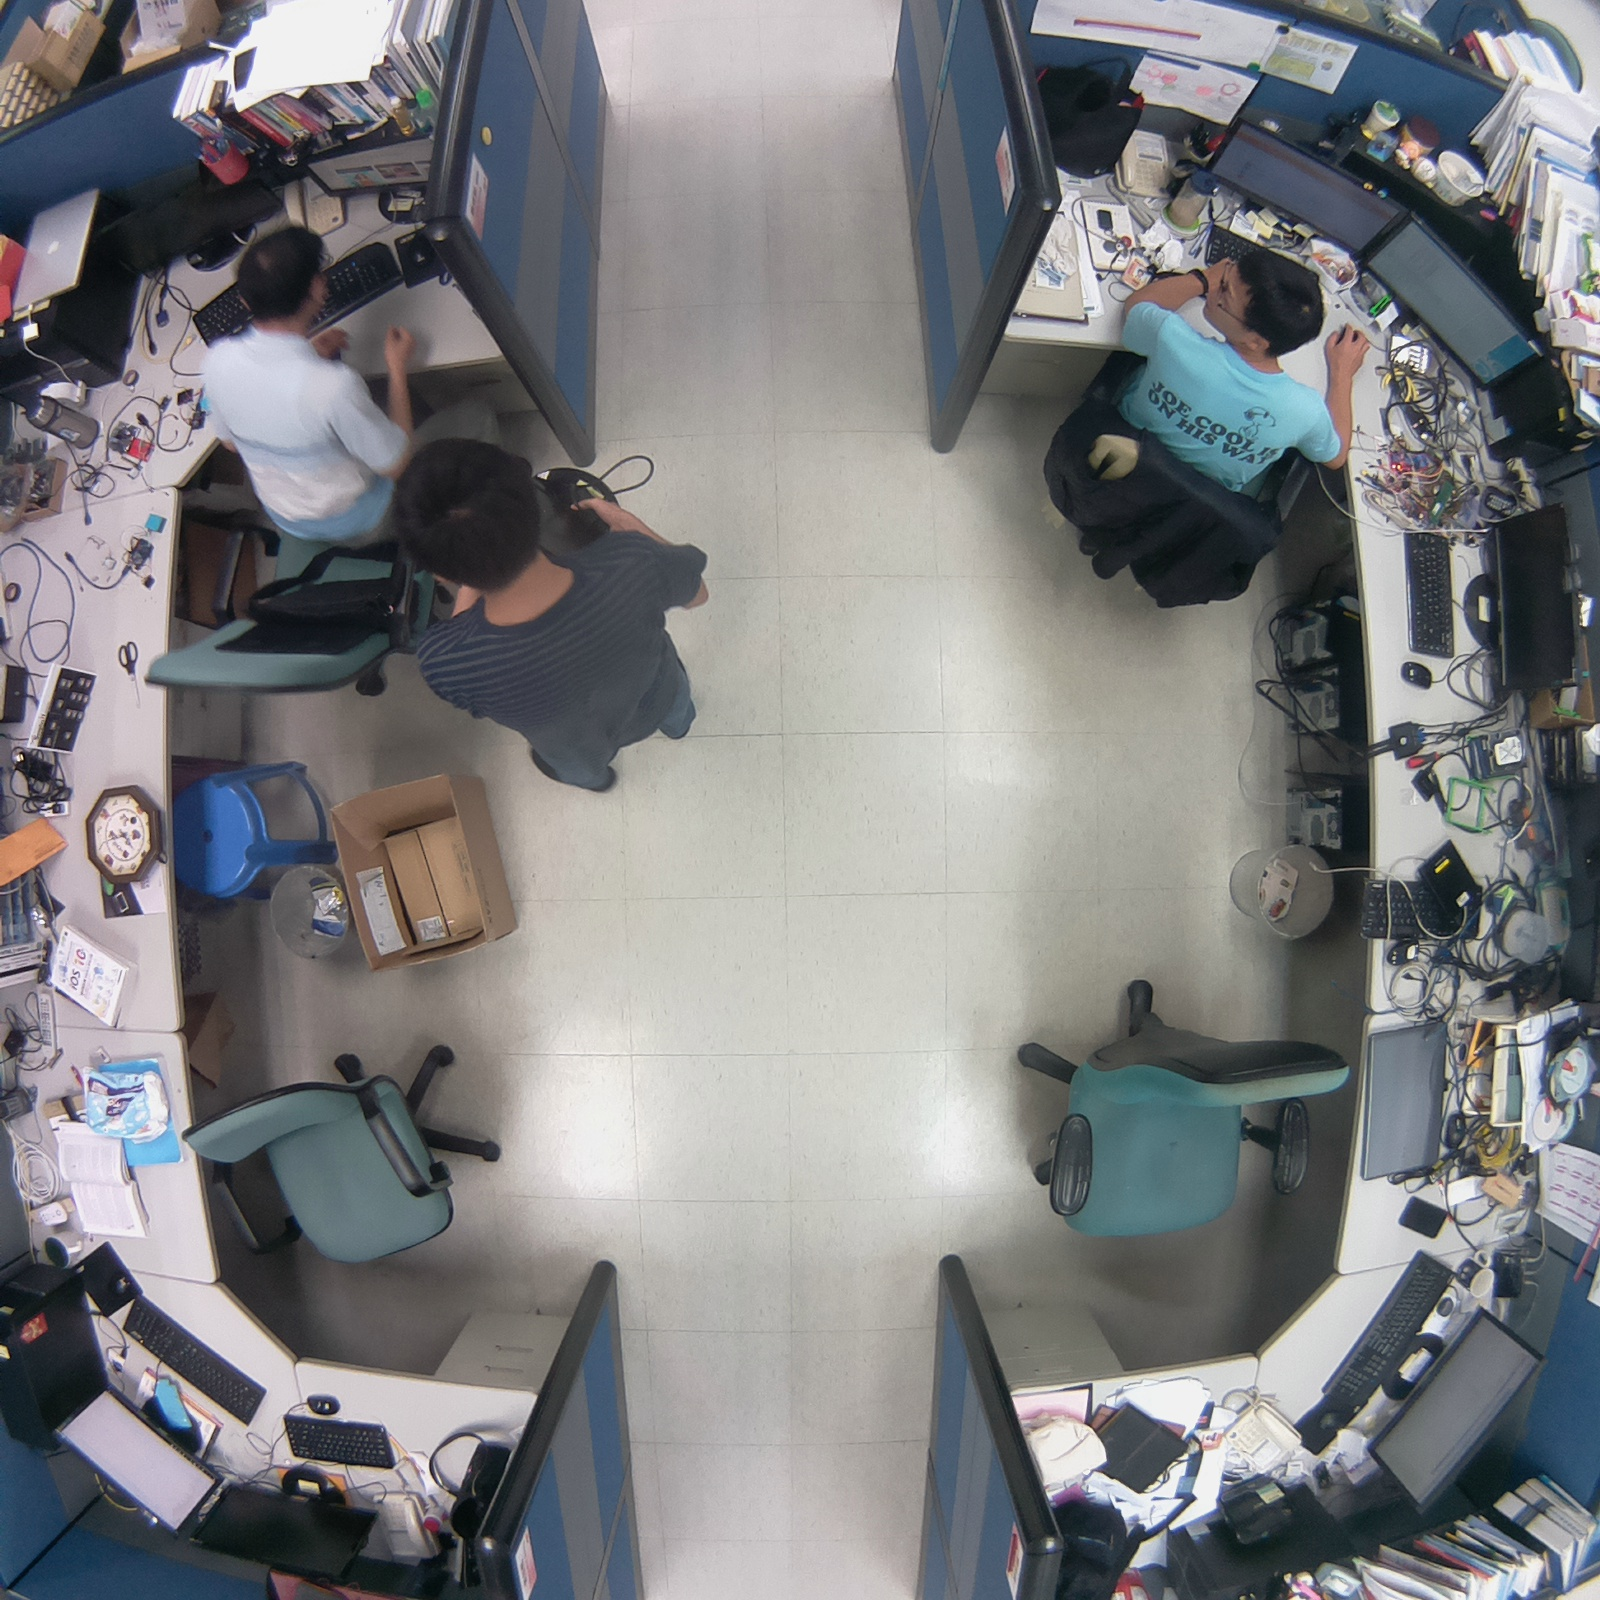chair: (988, 963, 1360, 1255), (168, 1014, 522, 1273)
head: (384, 433, 558, 596), (1188, 245, 1335, 355), (229, 218, 341, 329)
sitting: (132, 224, 428, 717), (1022, 249, 1373, 627)
standing: (378, 435, 722, 809)
